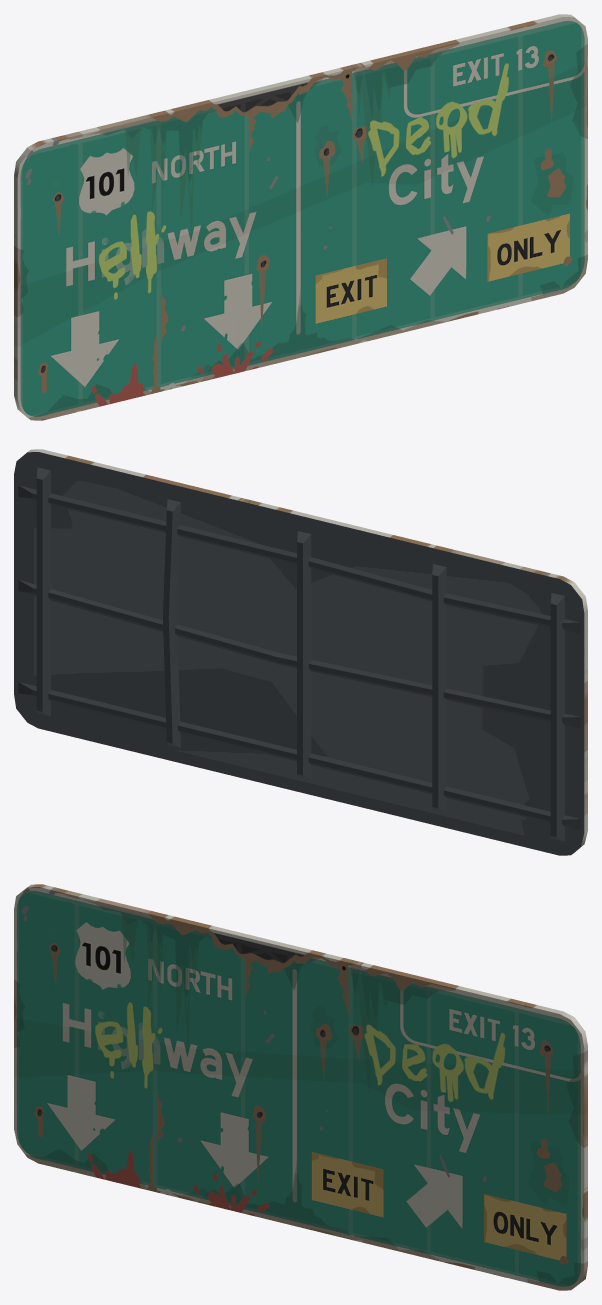
Rendered from SM_Prop_Sign_Highway_02.fbx.
3 renders of one model, top to bottom at view 1: azimuth 30°, elevation 25°; view 2: azimuth 150°, elevation 25°; view 3: azimuth 330°, elevation 25°, orthographic.
Visible parts, largest first — view 1: SM_Prop_Sign_Highway_02; view 2: SM_Prop_Sign_Highway_02; view 3: SM_Prop_Sign_Highway_02.
Boxes of the visible parts, box(x1,y1,x2,y2) form: SM_Prop_Sign_Highway_02: box(14, 14, 587, 420); SM_Prop_Sign_Highway_02: box(14, 449, 587, 855); SM_Prop_Sign_Highway_02: box(14, 884, 587, 1290).
Bounding box in the file's own units: 603 × 280 × 15.06.
